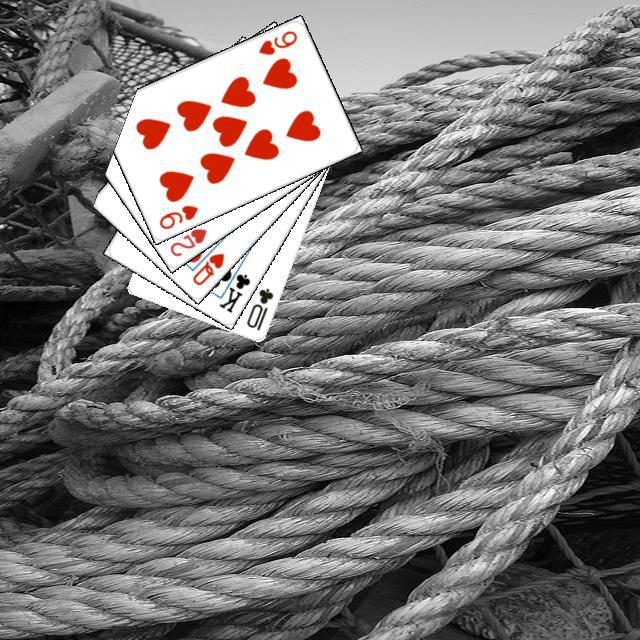10c: (241, 283, 275, 332)
2h: (165, 223, 208, 258)
9h: (154, 200, 200, 231), (253, 26, 299, 57)
Kc: (214, 260, 252, 315)
Qh: (188, 248, 226, 287)
